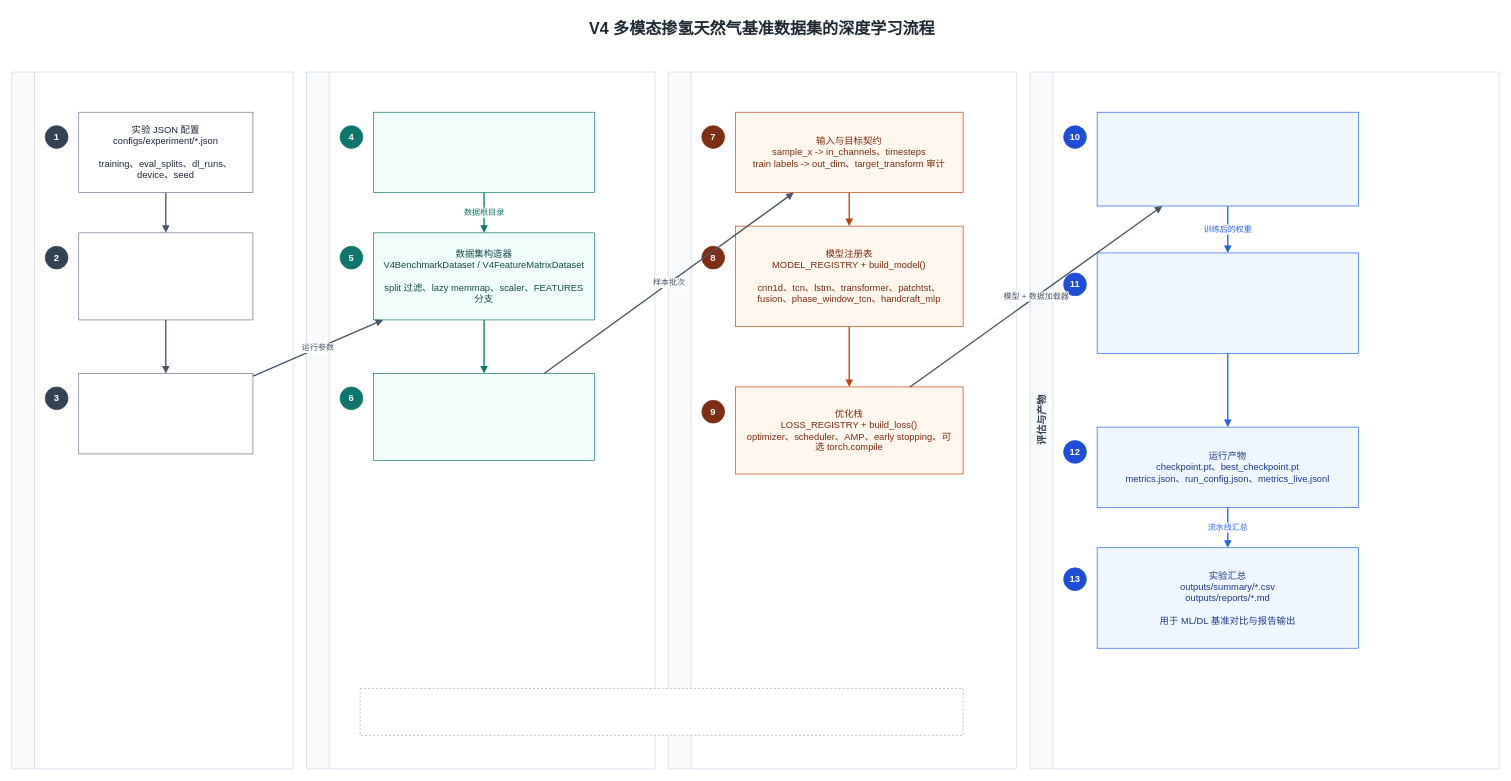
Image size: 1511x781. Some labels were removed from this diagram. Here are the shapes that lost their labels. From the top down, the box of each, then its label:
(373, 112, 595, 193): 基准数据文件 data/wv4-... sequences/、labels/y.npy、splits/、metadata/
(1096, 112, 1358, 206): 训练闭环 Trainer.fit() forward、loss、backward、optimizer.step、验证、最佳 checkpoint
(78, 232, 253, 320): 实验编排 src/pipeline/run_experiment.py 校验配置、遍历 dl_runs、调用 dl.cli.run()
(1096, 252, 1358, 353): 评估协议 Trainer.evaluate() 整体指标、组分指标、组成指标、条件指标、sum_abs_error
(11, 71, 293, 769): 实验定义
(78, 373, 253, 454): 单次运行入口 src/dl/cli.py 合并默认值、JSON 配置和 CLI/run 参数
(306, 71, 655, 769): 数据构建
(373, 373, 595, 461): 多模态张量组装 slow + ultrasonic + fiber_mic window 或 phase_windows，NTC/NCT/FEATURES
(668, 71, 1017, 769): 模型与优化
(359, 688, 963, 735): 核心不变量：新的正式 DL 基准遵循 v4 数据契约，不通过旧的 sequence-key 回退重写 mixture 语义。
